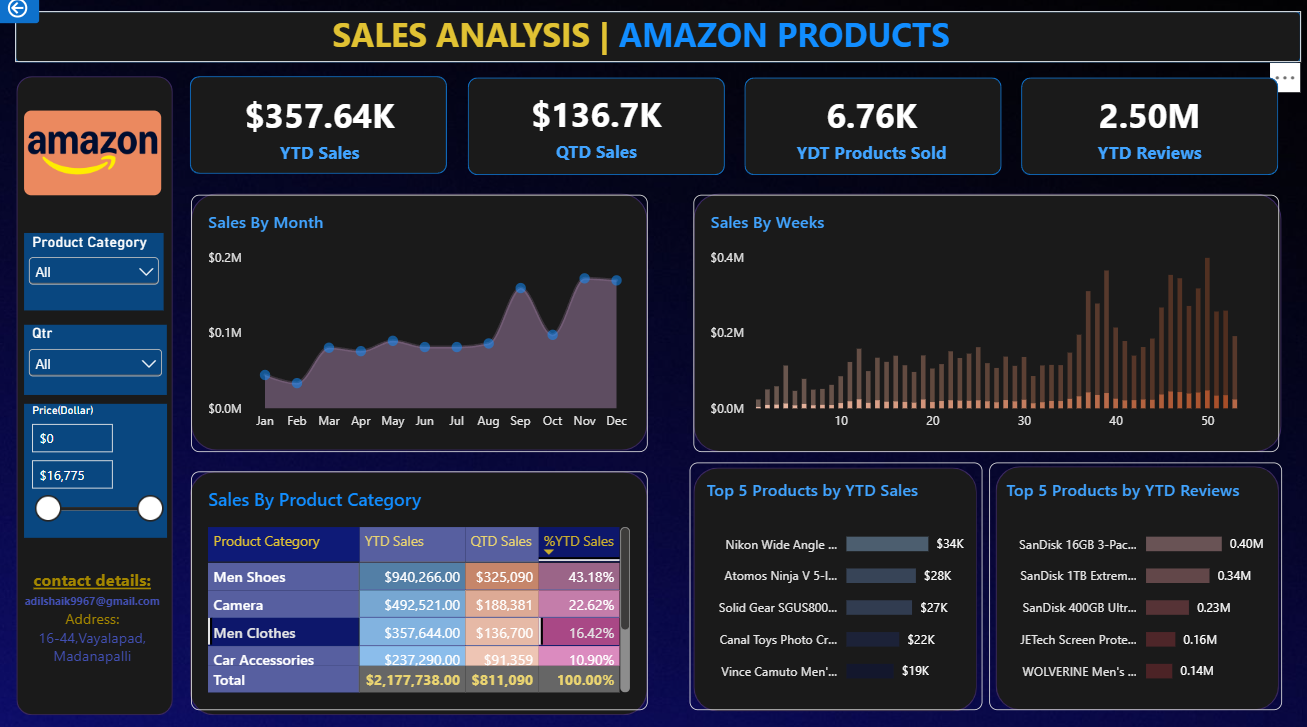

This screenshot's page, from the dashboard's own definition file:
{"tool":"powerbi","page":{"name":"Page 1","canvas":[1280,720],"ordinal":0},"visuals":[{"type":"shape","box":[19.8,82.2,152,621.3],"z":0},{"type":"shape","box":[458.3,82.7,250,95],"z":1000},{"type":"shape","box":[18.7,18.7,1250,50],"z":2000},{"type":"shape","box":[188.9,82.1,250,95],"z":3000},{"type":"slicer","fields":{"Values":["Amazon_Data.Product Category"]},"box":[26.9,233.8,136,75.1],"z":4000},{"type":"textbox","box":[326.7,18.7,613.3,50.7],"z":5000},{"type":"card","fields":{"Values":["Amazon_Data.YTD Sales"]},"box":[189.5,82.7,250,94.9],"z":6000},{"type":"card","fields":{"Values":["Amazon_Data.QTD Sales"]},"box":[458.7,82.7,250,93.6],"z":7000},{"type":"shape","box":[727.7,82.7,250,95],"z":8000},{"type":"shape","box":[997.1,82.7,250,95],"z":9000},{"type":"card","fields":{"Values":["Amazon_Data.YDT Products Sold"]},"box":[726.6,82.7,250,94.9],"z":10000},{"type":"card","fields":{"Values":["Amazon_Data.YTD Reviews"]},"box":[997.1,82.7,250,94.9],"z":11000},{"type":"shape","box":[189.7,196.2,443.6,250],"z":12000},{"type":"areaChart","title":"Sales By Month","fields":{"Category":["Date Table.Month Name"],"Y":["Sum(Amazon_Data.Price(Dollar))"]},"box":[189.7,197.4,443.6,250],"z":13000},{"type":"shape","box":[678.2,196.2,571.8,251.3],"z":14000},{"type":"columnChart","title":"Sales By Weeks","fields":{"Category":["Date Table.Week"],"Y":["Sum(Amazon_Data.Price(Dollar))"]},"box":[678.2,197.4,569.2,250],"z":15000},{"type":"shape","box":[188.5,466.7,444.9,237.2],"z":16000},{"type":"pivotTable","title":"Sales By Product Category","fields":{"Rows":["Amazon_Data.Product Category"],"Values":["Amazon_Data.YTD Sales1","Amazon_Data.QTD Sales","Amazon_Data.YTD Sales"]},"box":[189.7,466.7,443.6,232.1],"z":17000},{"type":"shape","box":[678.2,462.8,275.6,237.2],"z":18000},{"type":"shape","box":[971.8,461.5,275.6,237.2],"z":19000},{"type":"clusteredBarChart","title":"Top 5 Products by YTD Sales","fields":{"Category":["Amazon_Data.Product Description"],"Y":["Amazon_Data.YTD Sales"]},"box":[674.4,457.7,284.6,241],"z":20000},{"type":"clusteredBarChart","title":"Top 5 Products by YTD Reviews","fields":{"Category":["Amazon_Data.Product Description"],"Y":["Amazon_Data.YTD Reviews"]},"box":[965.4,457.7,284.6,241],"z":21000},{"type":"actionButton","box":[0,0,42.3,30.8],"z":22000},{"type":"slicer","fields":{"Values":["Date Table.Qtr"]},"box":[26.9,323,138.8,68],"z":23000},{"type":"image","box":[26.9,114.8,133.2,82.2],"z":24000},{"type":"slicer","fields":{"Values":["Amazon_Data.Price(Dollar)"]},"box":[27.3,400.4,138.8,130.1],"z":24001},{"type":"textbox","box":[27.3,560.3,132.6,126.4],"z":24002}]}

Visuals, with their boxes in screenshot pixels (x1, y1, x2, y2), scaled from the page's 1280x720 canvas onto the 1307x727 screenshot:
shape: [20, 83, 175, 710]
shape: [468, 84, 723, 179]
shape: [19, 19, 1295, 69]
shape: [193, 83, 448, 179]
slicer - Amazon_Data.Product Category: [27, 236, 166, 312]
textbox: [334, 19, 960, 70]
card - Amazon_Data.YTD Sales: [193, 84, 449, 179]
card - Amazon_Data.QTD Sales: [468, 84, 724, 178]
shape: [743, 84, 998, 179]
shape: [1018, 84, 1273, 179]
card - Amazon_Data.YDT Products Sold: [742, 84, 997, 179]
card - Amazon_Data.YTD Reviews: [1018, 84, 1273, 179]
shape: [194, 198, 647, 451]
"Sales By Month" areaChart: [194, 199, 647, 452]
shape: [693, 198, 1276, 452]
"Sales By Weeks" columnChart: [693, 199, 1274, 452]
shape: [192, 471, 647, 711]
"Sales By Product Category" pivotTable: [194, 471, 647, 706]
shape: [693, 467, 974, 707]
shape: [992, 466, 1274, 705]
"Top 5 Products by YTD Sales" clusteredBarChart: [689, 462, 979, 705]
"Top 5 Products by YTD Reviews" clusteredBarChart: [986, 462, 1276, 705]
actionButton: [0, 0, 43, 31]
slicer - Date Table.Qtr: [27, 326, 169, 395]
image: [27, 116, 163, 199]
slicer - Amazon_Data.Price(Dollar): [28, 404, 170, 536]
textbox: [28, 566, 163, 693]
